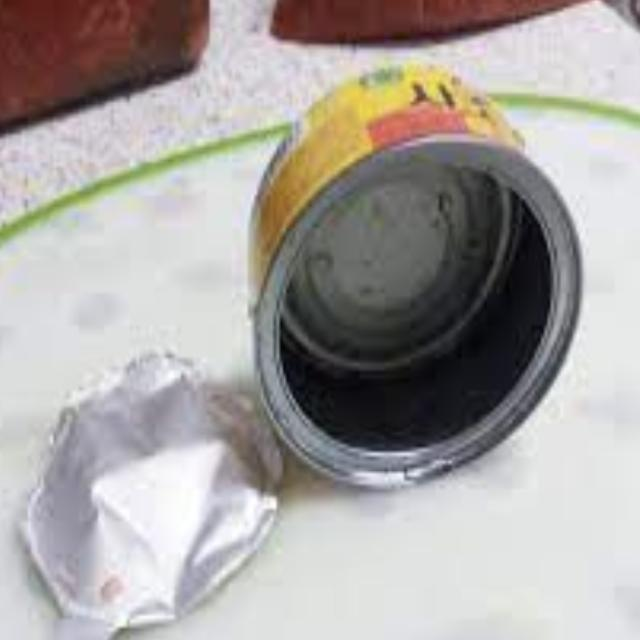recyclable: (236, 36, 586, 504)
